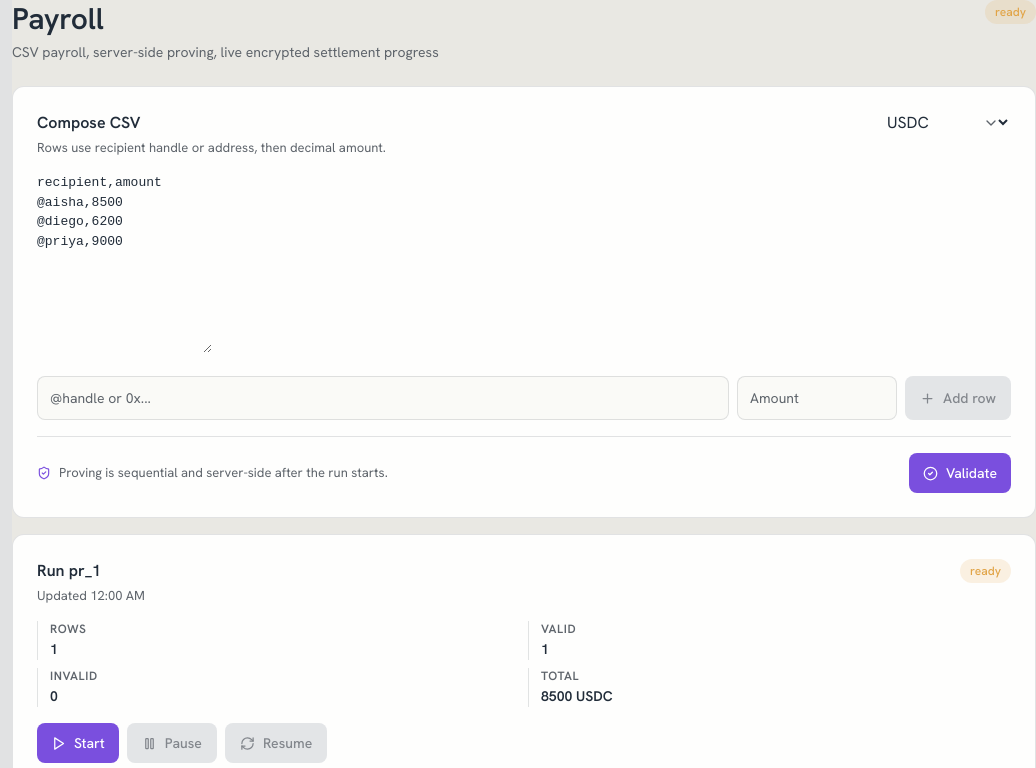
Payroll › starts a ready run and reflects live progress counts
The width and height of the screenshot is (1036, 768).
Step 1. Click the button with test id "start-payroll" → (78, 743), box x1=37 y1=723 x2=119 y2=763
(page scrolled)
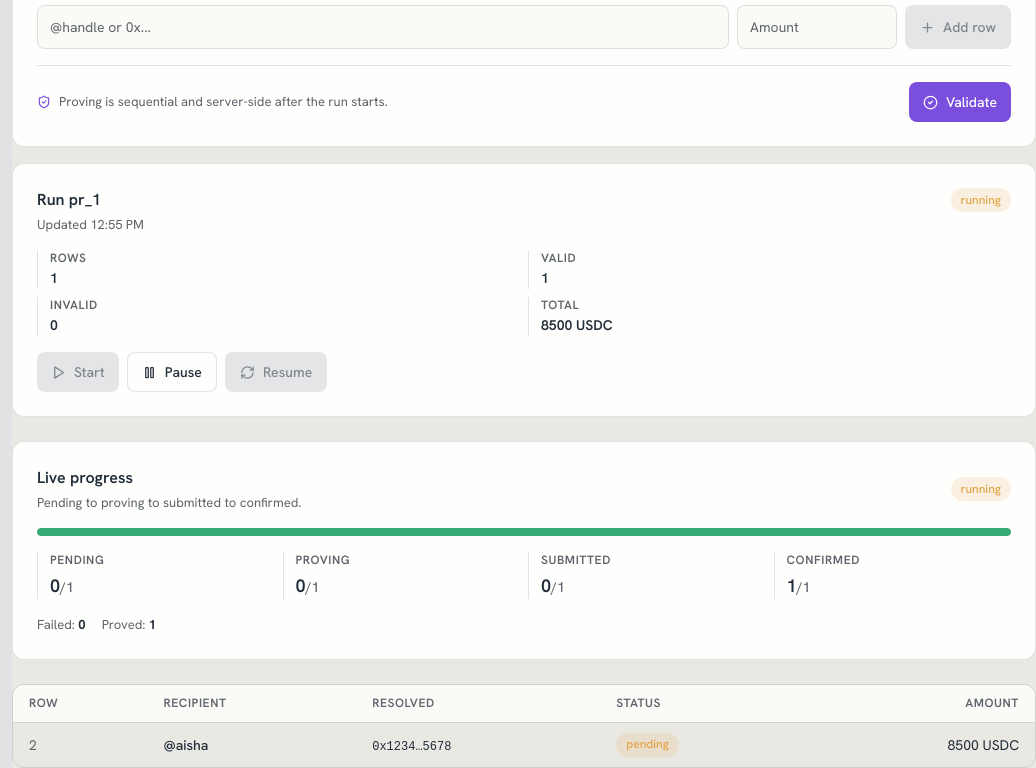
Expected: the element with test id "progress-confirmed" shows "1/1", x1=774 y1=552 x2=1011 y2=599
